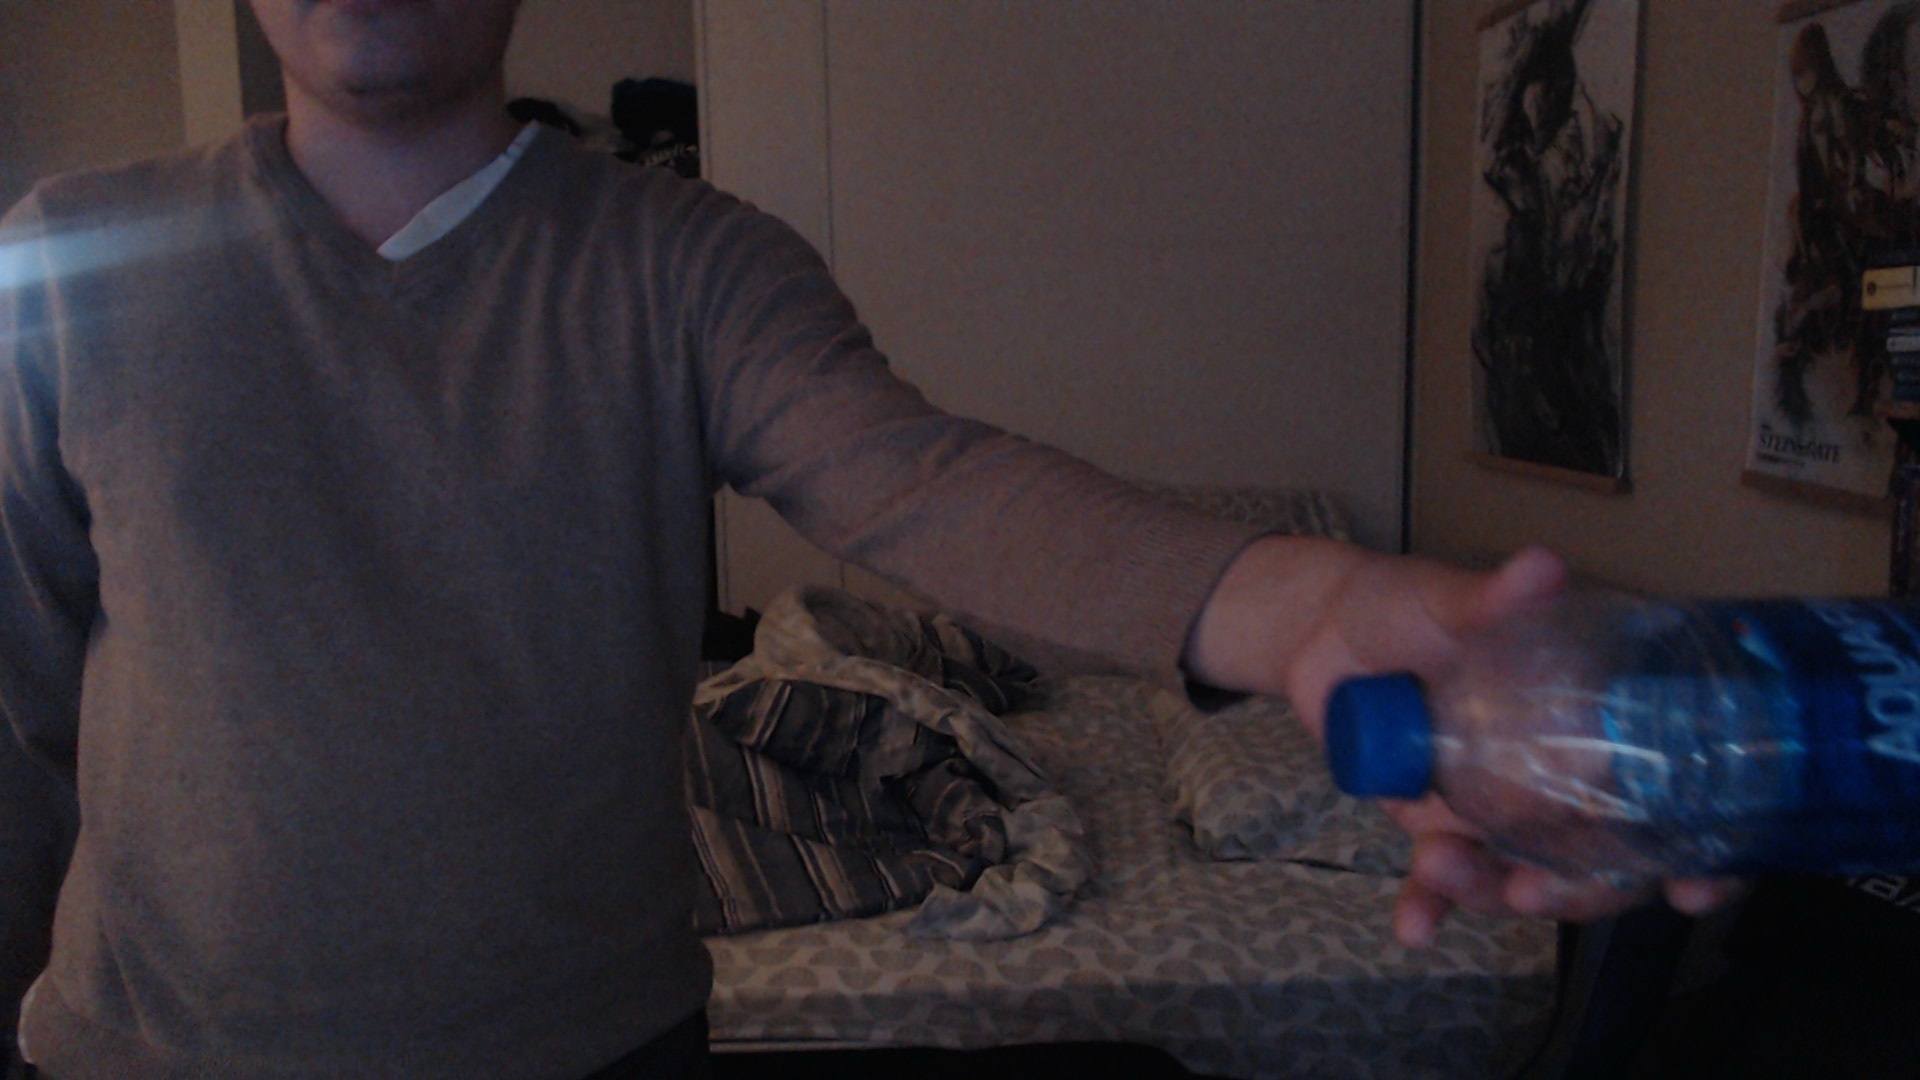bottle: (1315, 585, 1920, 882)
